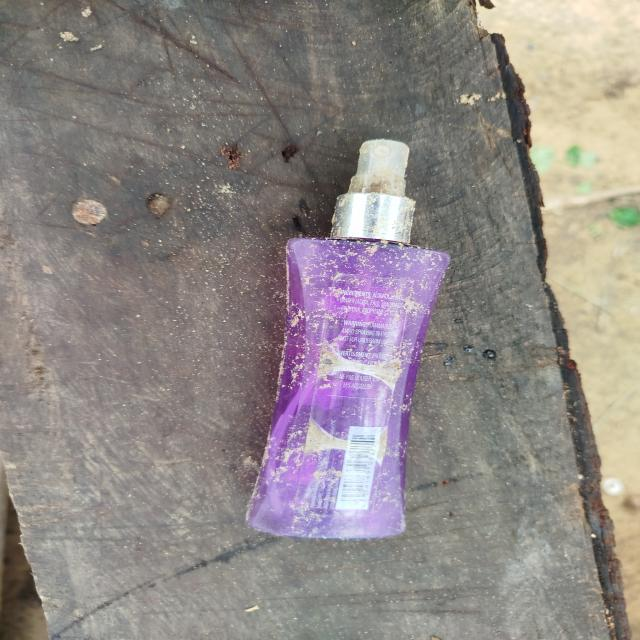plastic: (230, 117, 502, 562)
